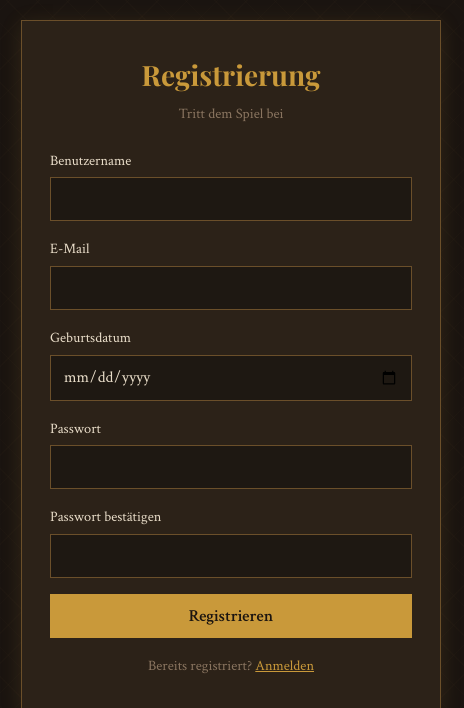
Test: RegisterPage › Benutzername zu kurz (< 3 Zeichen) → Fehlermeldung
Type "ab" into the field labelled "Benutzername" at (231, 200), box [50,178,412,222]
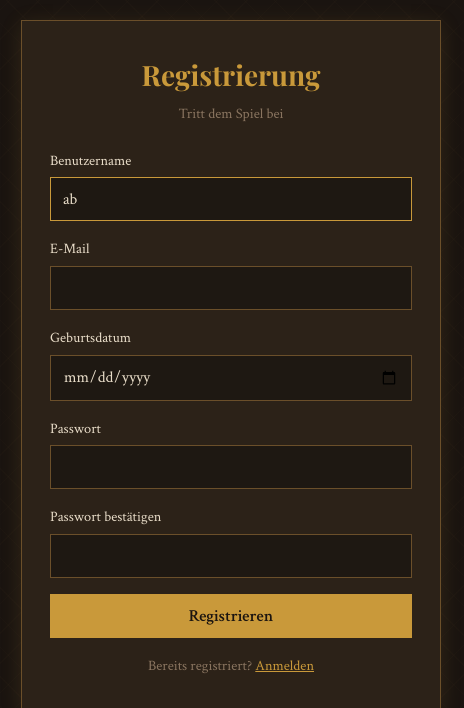
Type "ab@test.de" into the field labelled "E-Mail" at (231, 288), box [50,266,412,310]
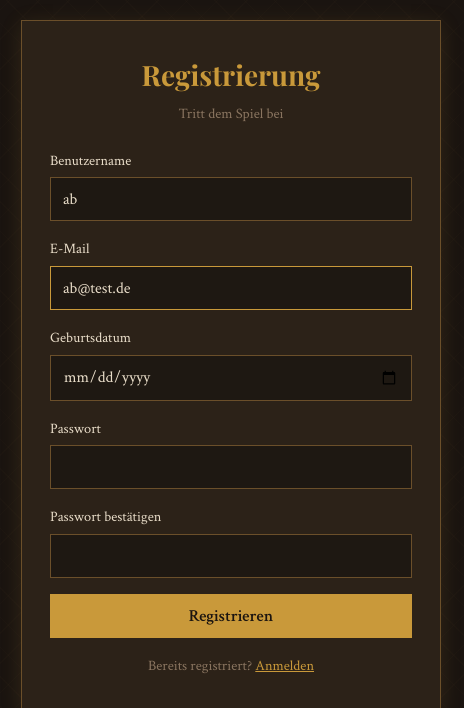
Type "2000-01-01" into the date field labelled "Geburtsdatum" at (231, 378), box [50,355,412,401]
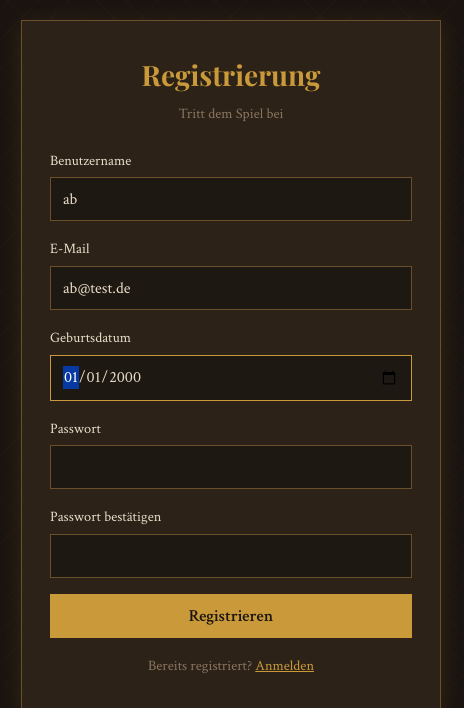
Type "Passwort123" into the password field labelled "Passwort" at (231, 467), box [50,445,412,489]
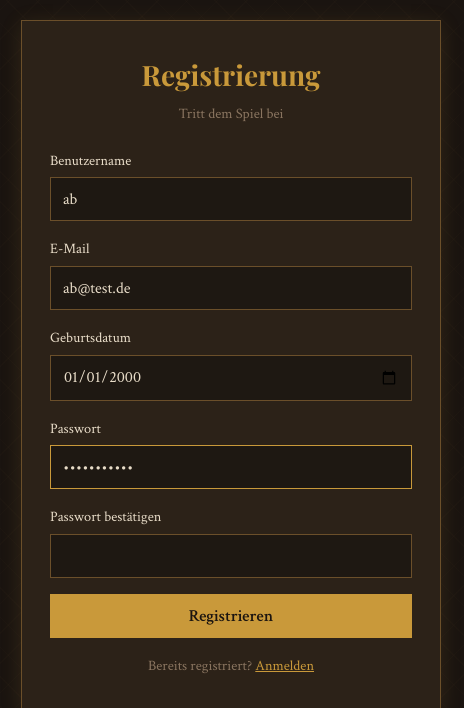
Type "Passwort123" into the password field labelled "Passwort bestätigen" at (231, 556), box [50,534,412,578]
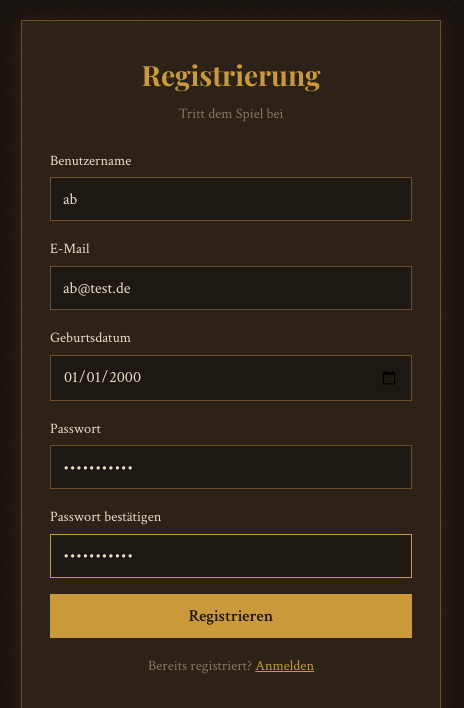
Click the button "Registrieren" at (231, 616), box [50,594,412,638]
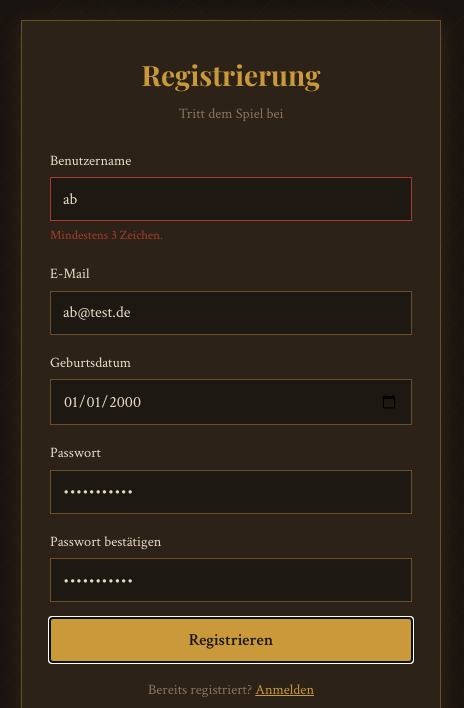
Expected: the text "Mindestens 3 Zeichen." is shown, [50,228,163,244]
